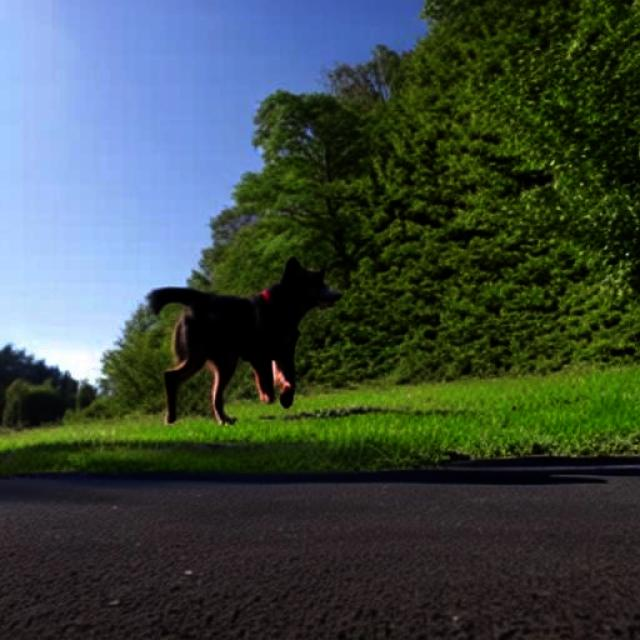Dog: (147, 257, 340, 424)
